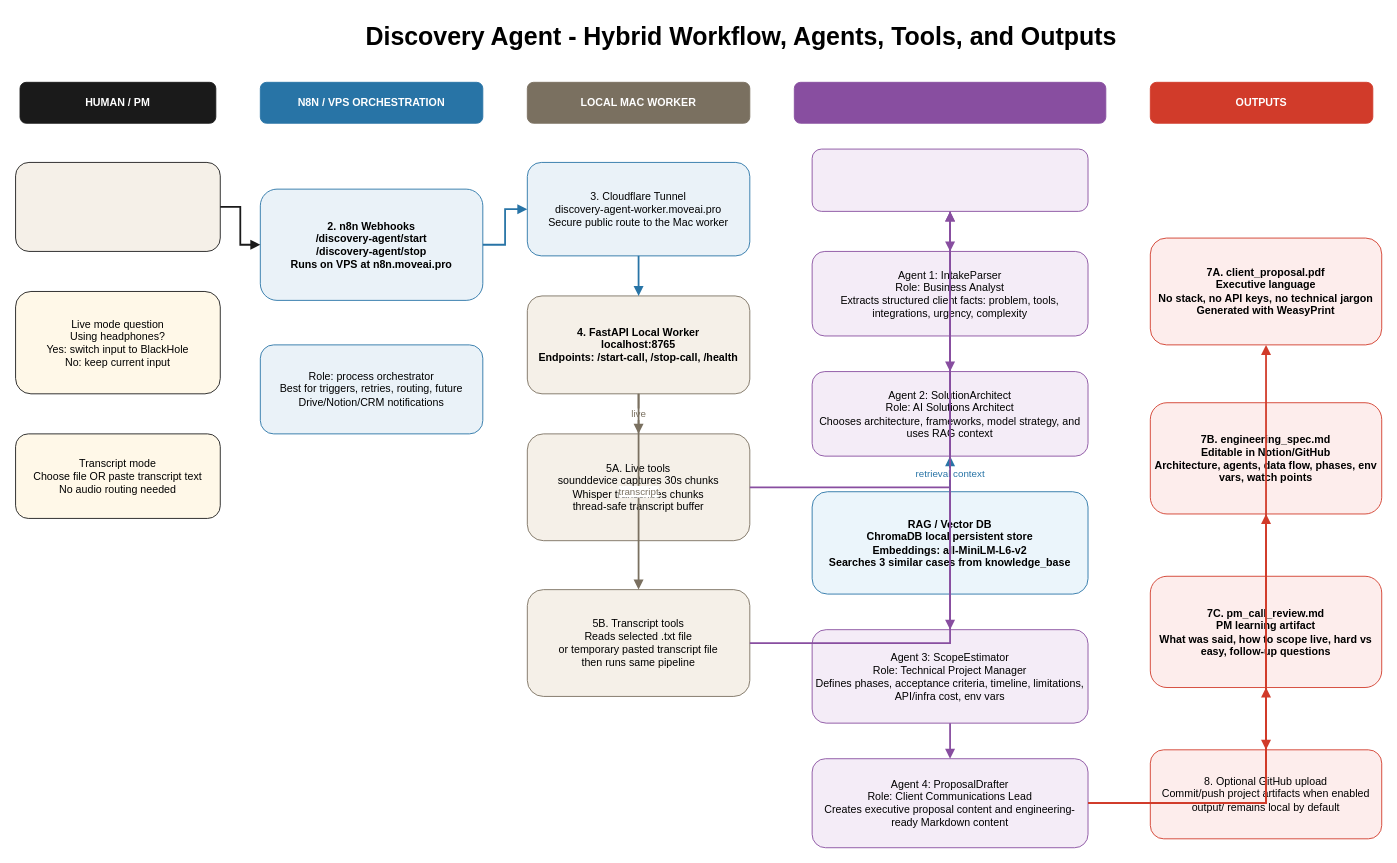
Image size: 1397x863. Some labels were removed from this diagram. Each missing label, with the centre of its shape:
"1. Discovery Agent Launcher Liquid-glass Dock app Modes: Live, Stop, Transcript" goes at [117,206].
"6. CrewAI Crew Multi-agent workflow over the final transcript" goes at [949,179].
"CREWAI AGENTS" goes at [949,102].
